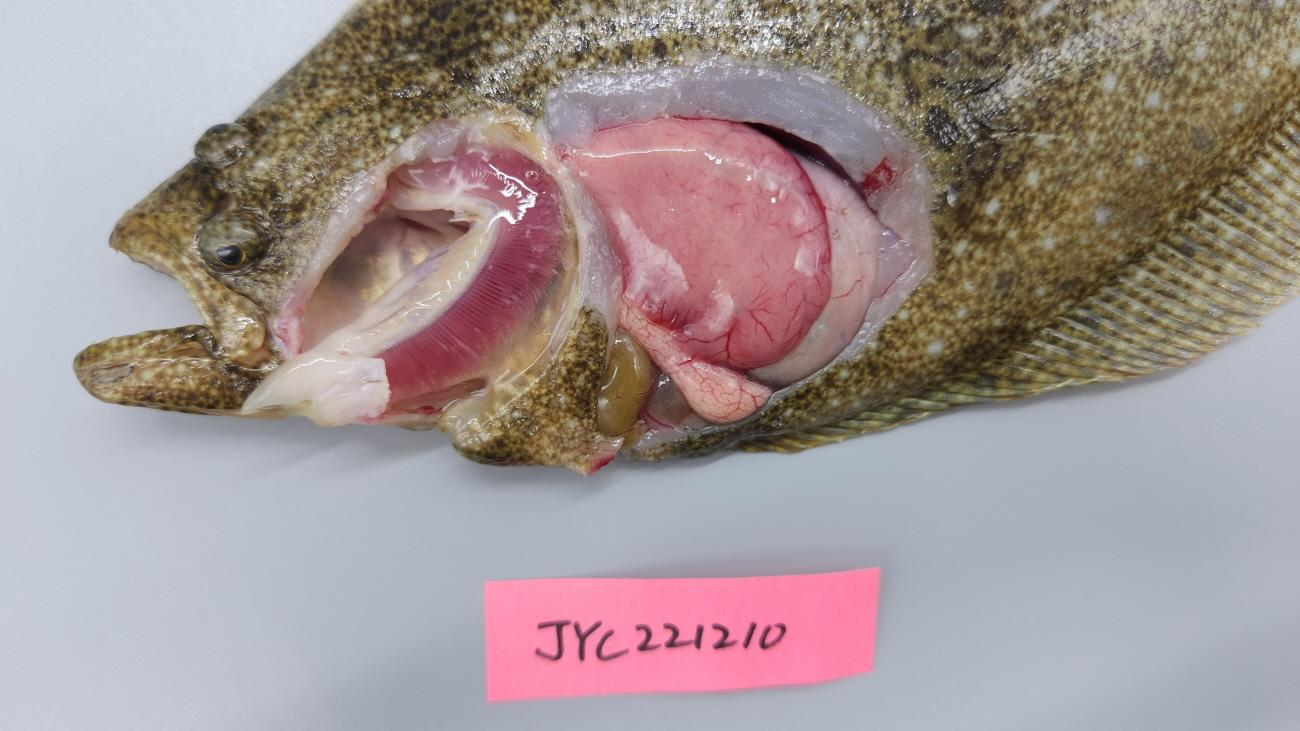MAGIN: (486, 148, 563, 259)
MAGIP: (393, 146, 520, 242)
